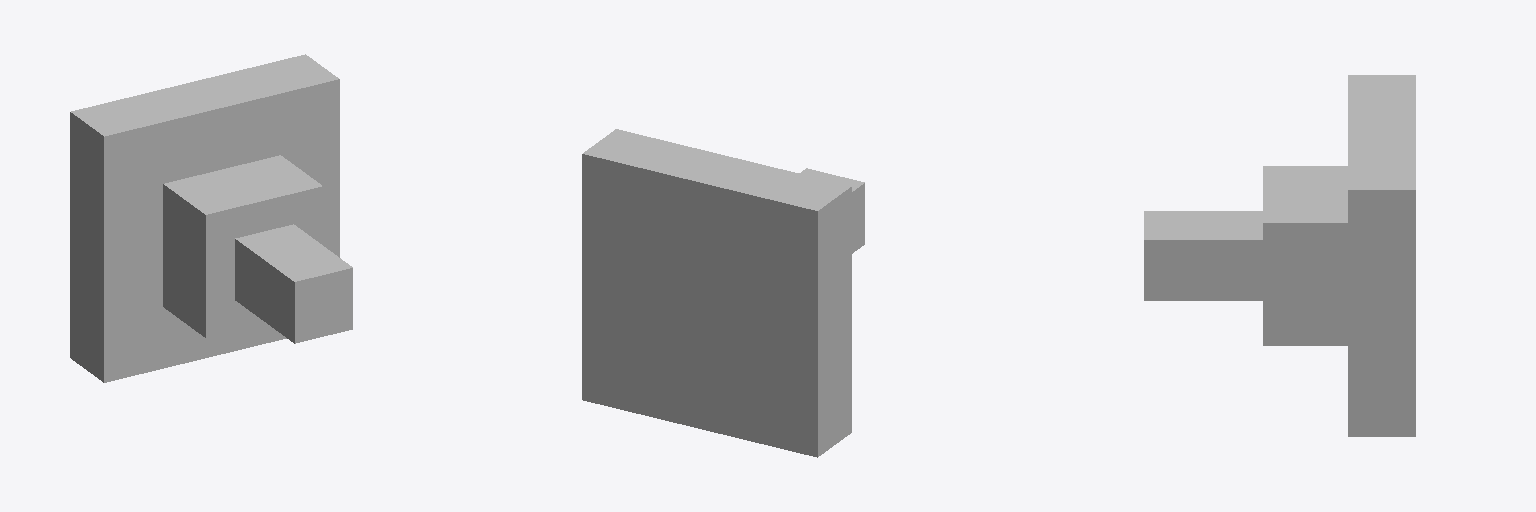
The model's file is interface.obj.
The picture shows the model from 3 angles: view 1: azimuth 30°, elevation 25°; view 2: azimuth 150°, elevation 25°; view 3: azimuth 270°, elevation 25°; orthographic projection.
Visible parts, largest first — view 1: object_2; view 2: object_1, object_2; view 3: object_2.
Part boxes in pixels (x1,y1,x2,y2): object_2: (70, 54, 352, 382); object_1: (582, 154, 817, 457); object_2: (583, 129, 864, 456); object_2: (1144, 75, 1415, 436).
Size of the model in its own units: 1 by 1 by 1.